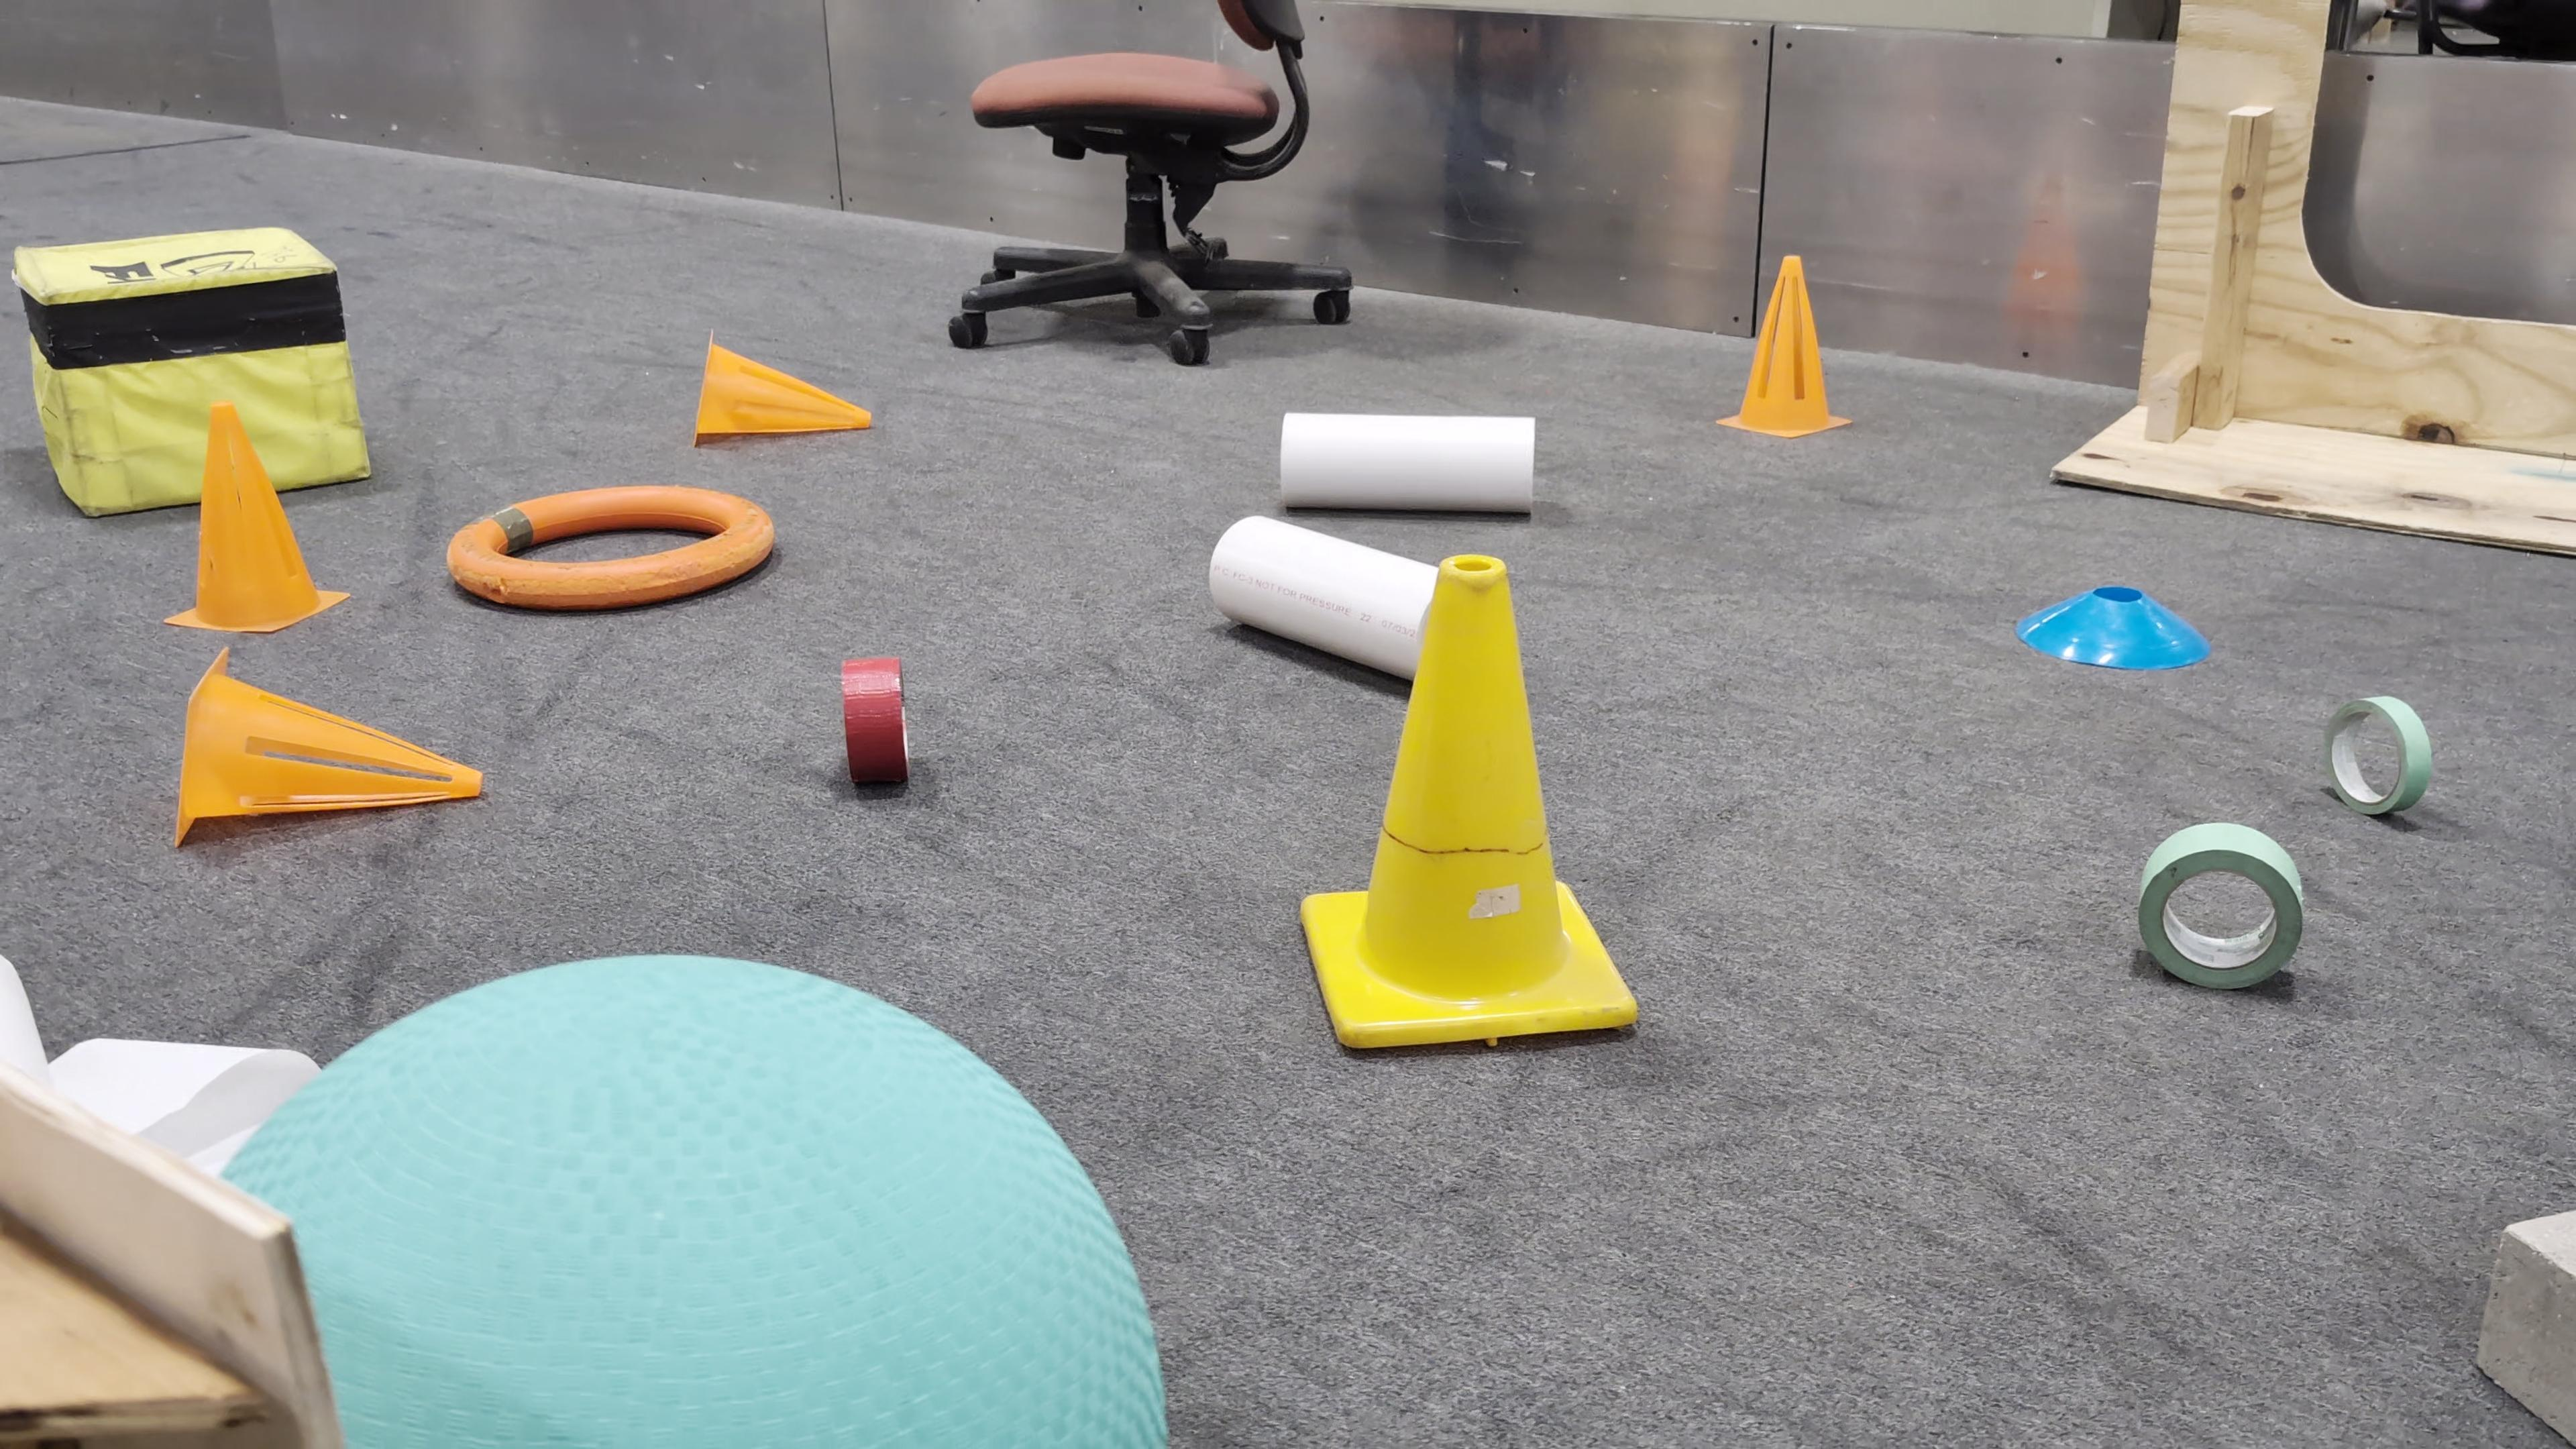coral: (1210, 515, 1440, 681), (1283, 412, 1534, 519)
